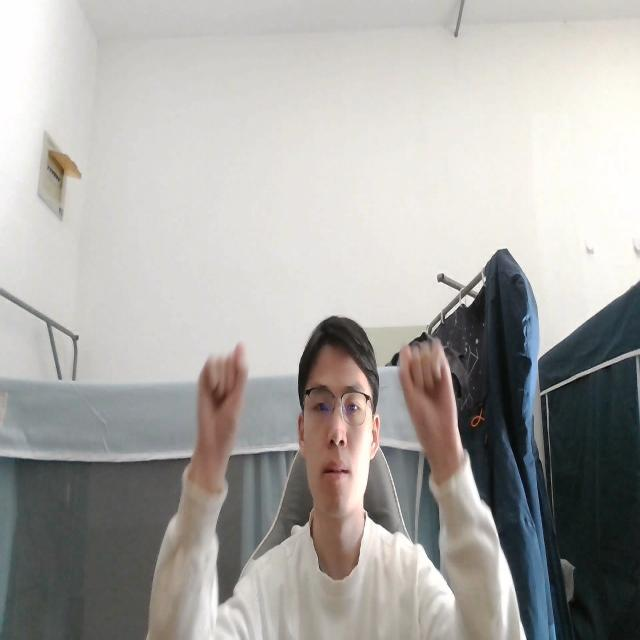ten: (394, 330, 465, 477), (192, 336, 251, 478)
